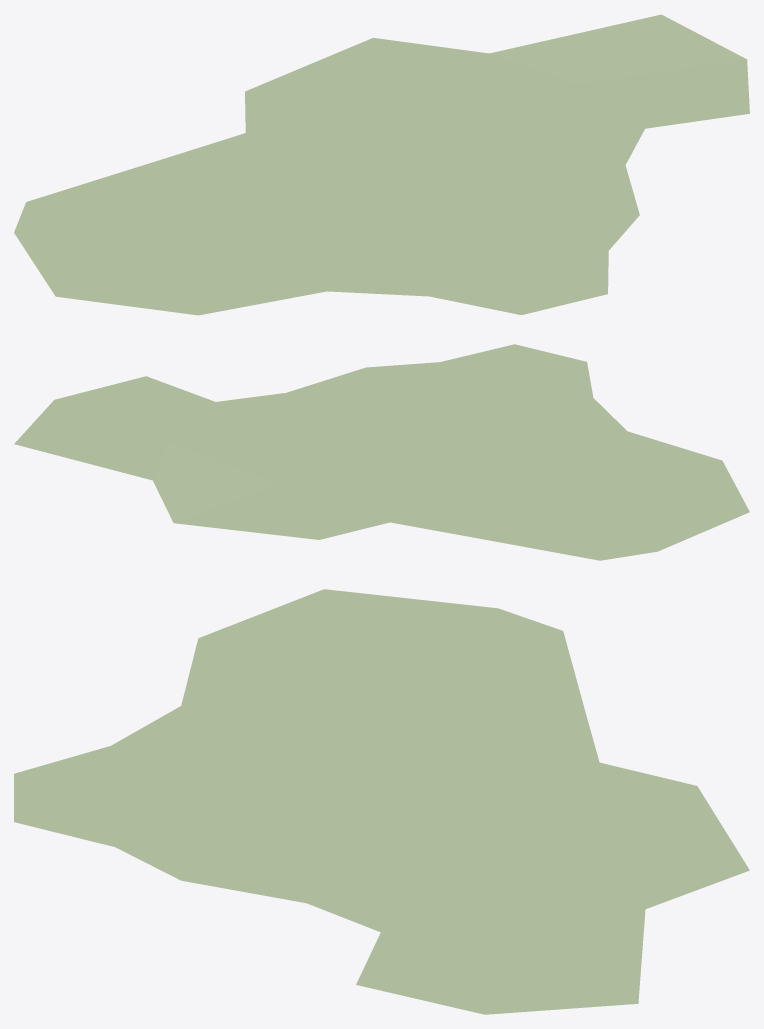
Rendered from PlaneGround.fbx.
The picture shows the model from 3 angles, top to bottom: view 1: azimuth 30°, elevation 25°; view 2: azimuth 150°, elevation 25°; view 3: azimuth 270°, elevation 25°; orthographic projection. The views are drawn at different scales.
Visible parts, largest first — view 1: Plane; view 2: Plane; view 3: Plane.
Boxes of the visible parts, x1=… form: Plane: x1=14, y1=14, x2=749, y2=315; Plane: x1=14, y1=344, x2=749, y2=560; Plane: x1=14, y1=589, x2=749, y2=1014.
Bounding box in the file's own units: 587 × 0.3557 × 429.
